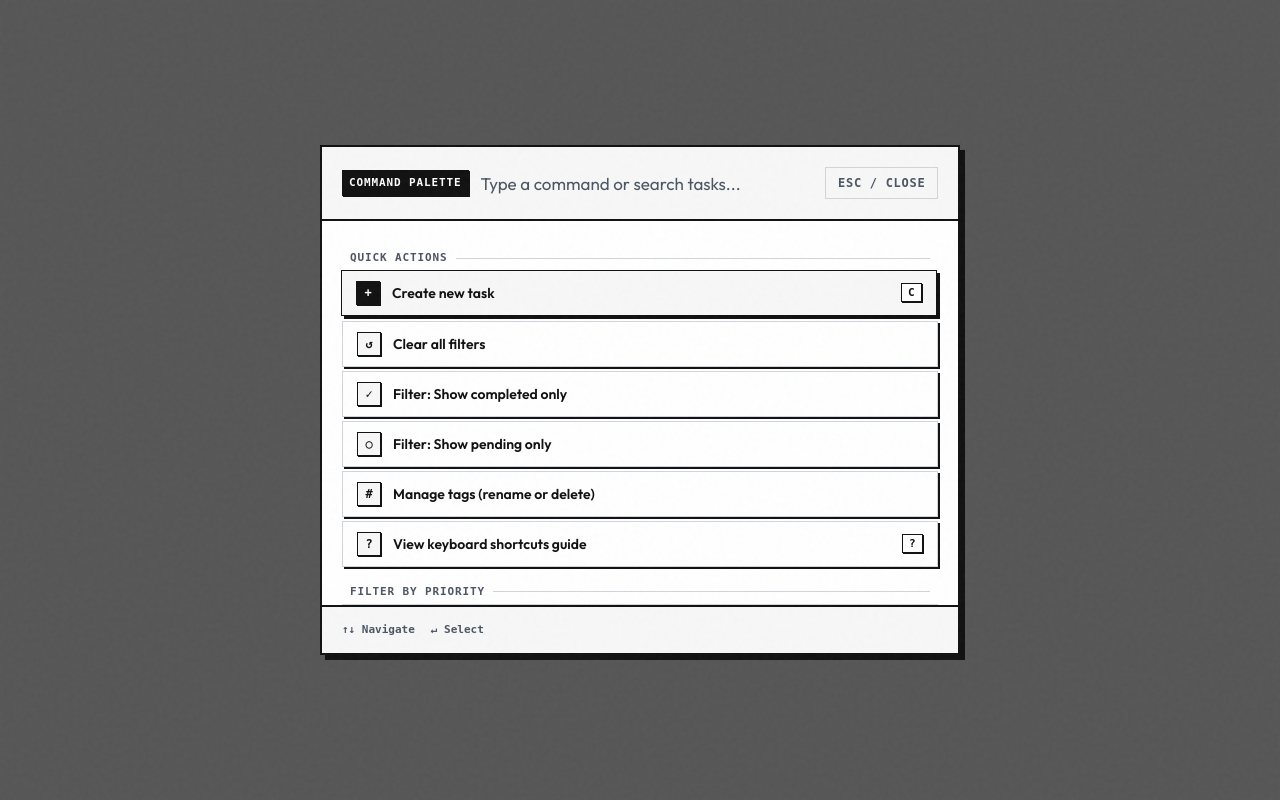
Test: CommandPalette component › filters command list dynamically based on input query
Type "clear" into the field with placeholder "Type a command or search tasks..." at (647, 183), box [480,167,813,199]
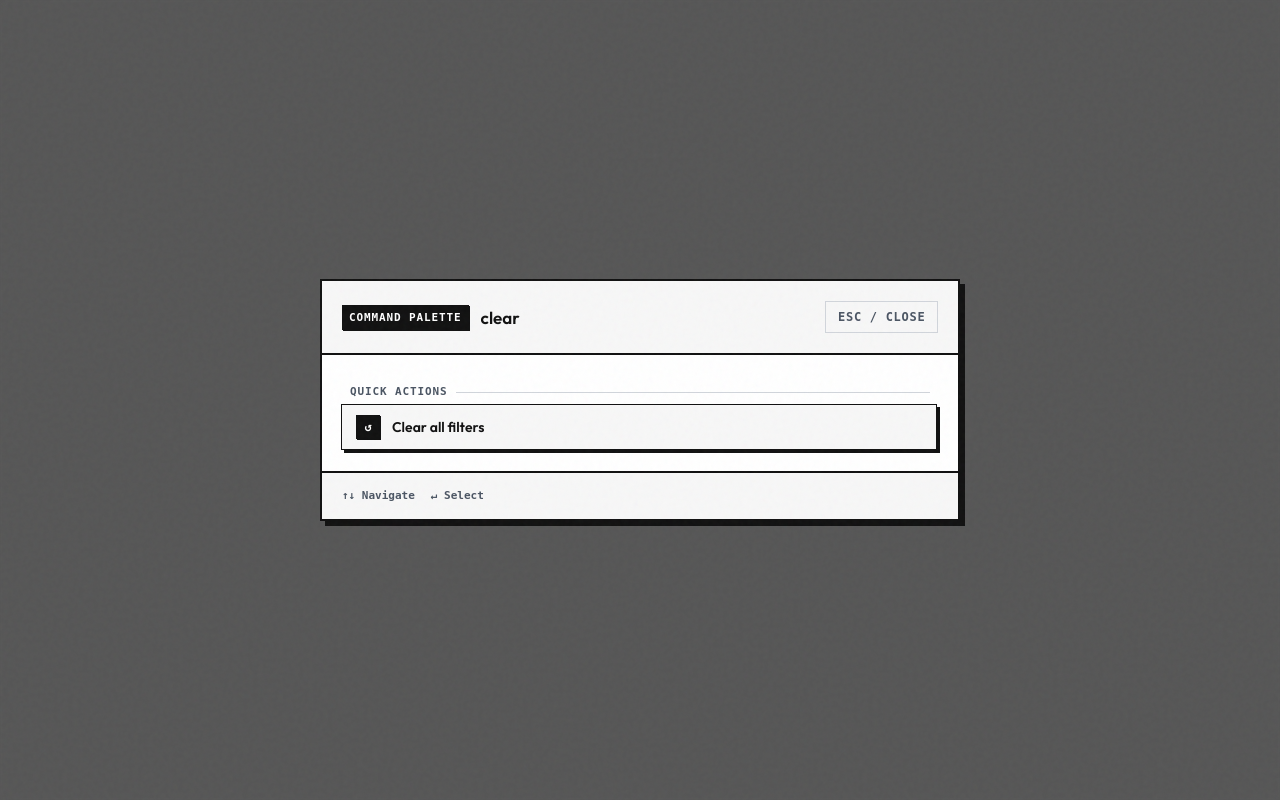
Expected: the text "Clear all filters" is shown, [392,418,484,436]
Expected: the option "Create new task" is gone
